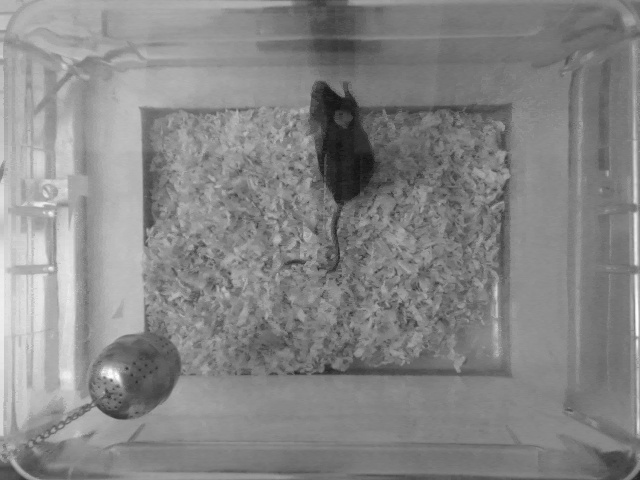mice: (296, 78, 374, 276)
